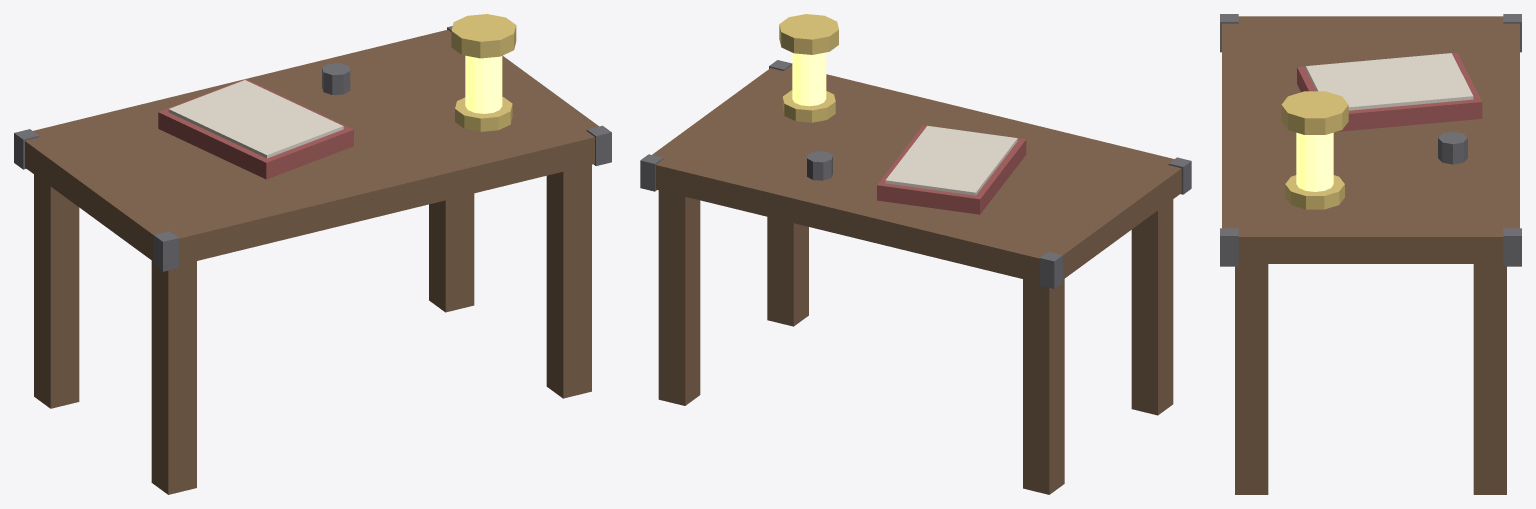
Rendered from patrol_desk.glb.
3 renders of one model, left to right at view 1: azimuth 30°, elevation 25°; view 2: azimuth 150°, elevation 25°; view 3: azimuth 270°, elevation 25°, orthographic. The views are drawn at different scales.
Parts seen in each view (by area): view 1: Cube, Cube.001, Cube.003, Cube.002, Cube.009, Cube.004, PatrolLedger, Cylinder.002, Cylinder.001, Cylinder, Cube.005, Cylinder.003 (+1 smaller); view 2: Cube, Cube.004, Cube.002, Cube.001, Cube.009, Cube.003, PatrolLedger, Cylinder.002, Cylinder.001, Cylinder, Cube.006, Cylinder.003 (+1 smaller); view 3: Cube, Cube.003, Cube.004, Cube.009, PatrolLedger, Cylinder.002, Cylinder.001, Cylinder, Cylinder.003, Cube.007, Cube.008.
Part boxes in pixels (x1,y1,x2,y2): Cube: [25, 29, 598, 265]; Cube.001: [151, 261, 196, 494]; Cube.003: [546, 164, 591, 398]; Cube.002: [34, 174, 79, 408]; Cube.009: [168, 80, 343, 158]; Cube.004: [429, 193, 474, 312]; PatrolLedger: [158, 79, 353, 179]; Cylinder.002: [451, 14, 516, 58]; Cylinder.001: [465, 55, 502, 113]; Cylinder: [455, 97, 512, 131]; Cube.005: [153, 231, 178, 271]; Cylinder.003: [322, 63, 350, 94]; Cube: [652, 65, 1181, 282]; Cube.004: [658, 190, 700, 405]; Cube.002: [1023, 279, 1064, 494]; Cube.001: [1131, 199, 1173, 415]; Cube.009: [885, 125, 1017, 195]; Cube.003: [767, 217, 808, 326]; PatrolLedger: [877, 125, 1026, 214]; Cylinder.002: [779, 14, 838, 54]; Cylinder.001: [792, 52, 826, 106]; Cylinder: [782, 90, 835, 122]; Cube.006: [1039, 251, 1062, 288]; Cylinder.003: [807, 151, 832, 180]; Cube: [1222, 16, 1519, 263]; Cube.003: [1235, 264, 1268, 494]; Cube.004: [1473, 264, 1506, 494]; Cube.009: [1306, 53, 1473, 110]; PatrolLedger: [1297, 52, 1482, 131]; Cylinder.002: [1281, 91, 1348, 134]; Cylinder.001: [1296, 132, 1333, 191]; Cylinder: [1285, 175, 1344, 209]; Cylinder.003: [1438, 131, 1467, 164]; Cube.007: [1220, 228, 1238, 266]; Cube.008: [1503, 228, 1521, 266].
Bounding box in the file's own units: 1.41 × 1.05 × 0.81.
